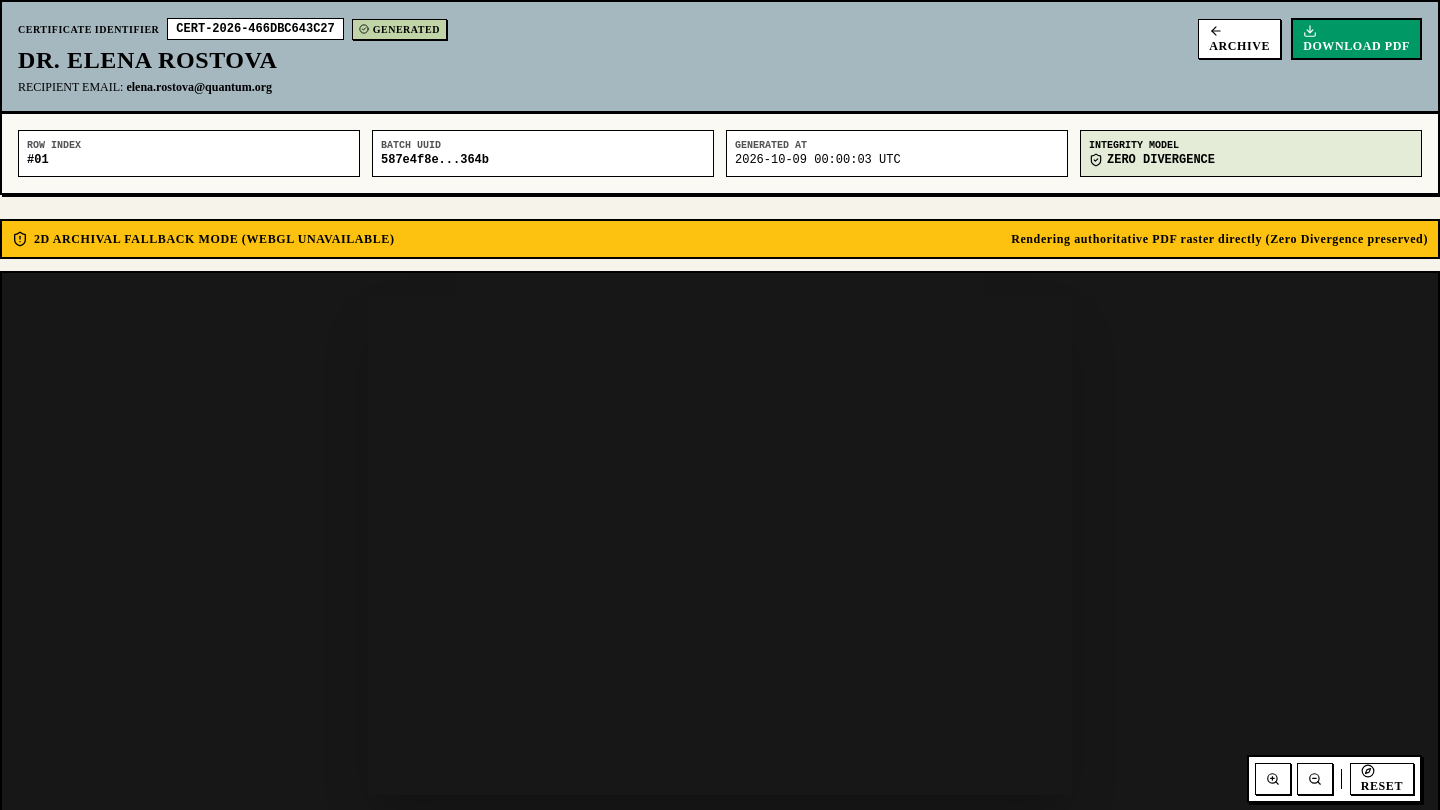
it: CertificateInspectorPage Integration (Zero-Divergence) › 9. Handles download 404 and 409 error responses gracefully
The width and height of the screenshot is (1440, 810).
Check: the heading "Dr. Elena Rostova" is shown, box [18,47,277,73]
Click the button with aria-label "Download official PDF certificate".
click(1357, 39)  # box [1291,18,1422,60]
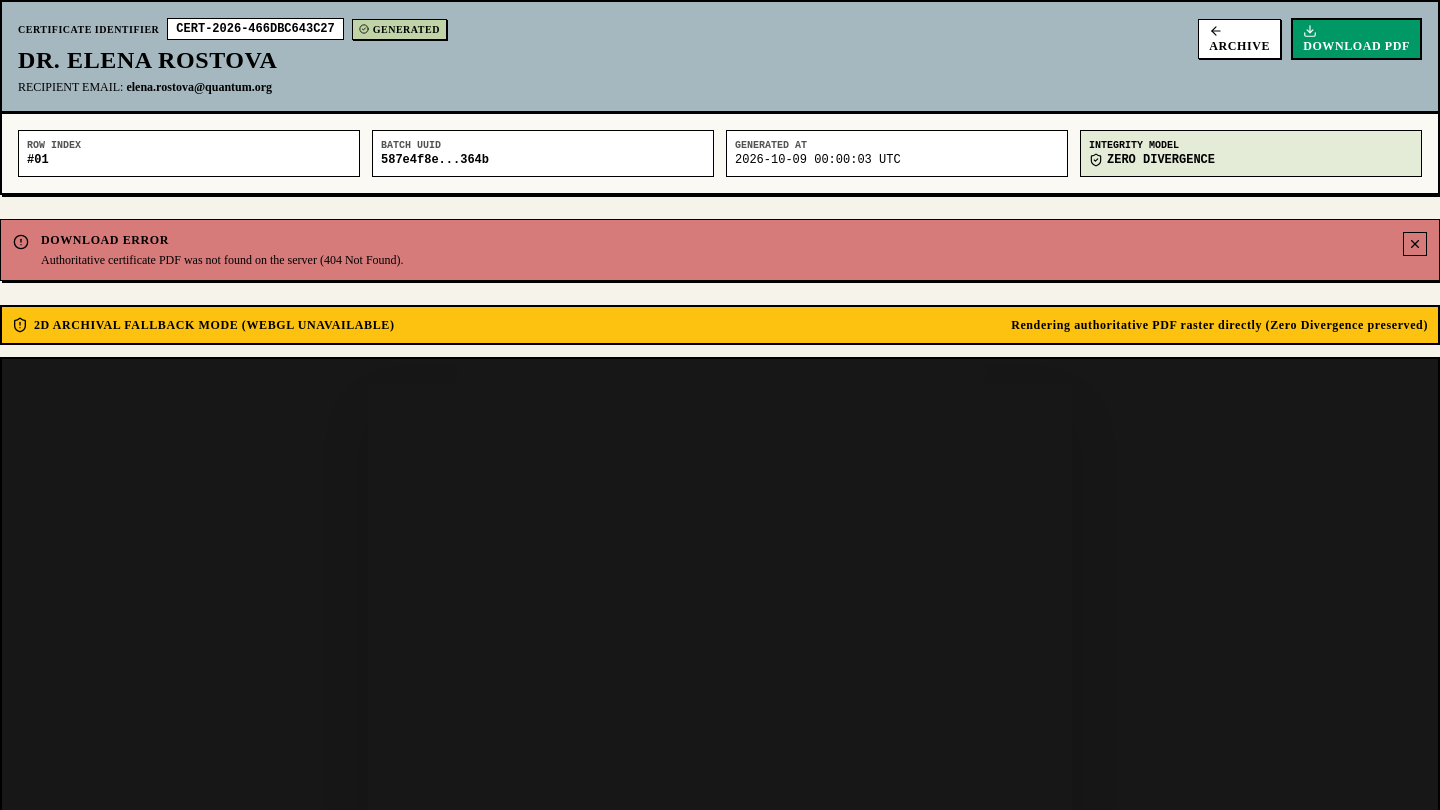
Check: the text "Authoritative certificate PDF was not found on the server (404 Not Found)" is shown, box [41,253,404,267]
